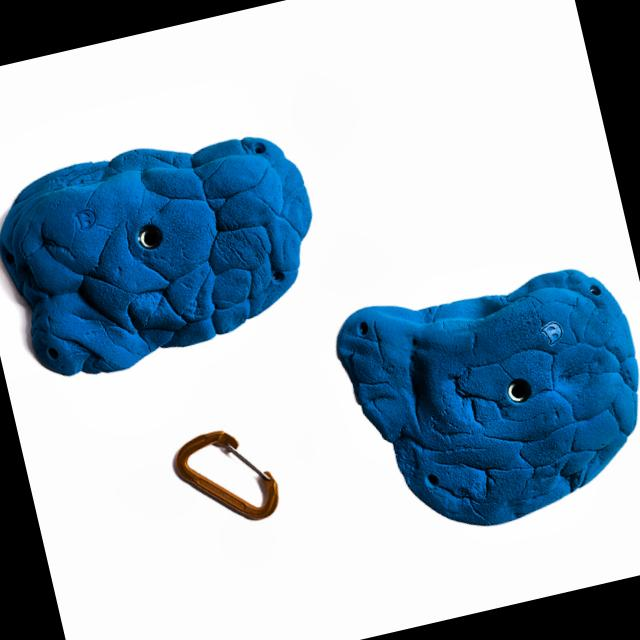Hold: (321, 254, 640, 545), (0, 109, 325, 392)
